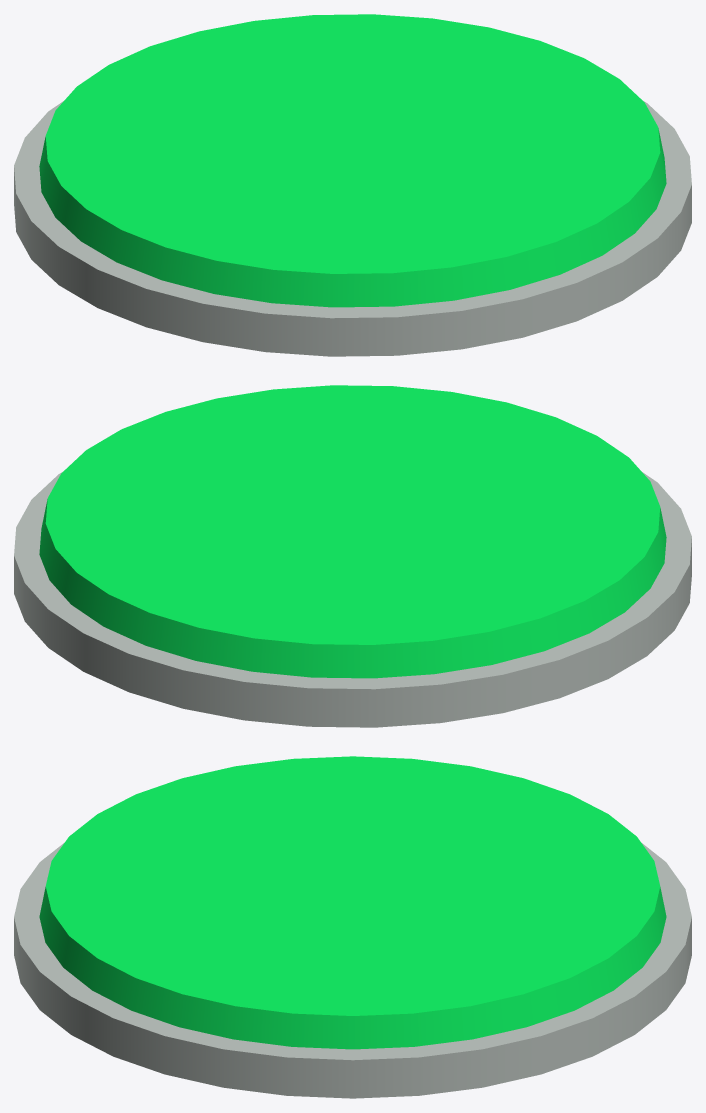
File: green-button_modified.gltf
3 renders of one model, top to bottom at view 1: azimuth 30°, elevation 25°; view 2: azimuth 150°, elevation 25°; view 3: azimuth 270°, elevation 25°, orthographic.
Parts seen in each view (by area): view 1: Cylinder (×2); view 2: Cylinder (×2); view 3: Cylinder (×2).
Boxes of the visible parts, x1,y1,x2,y2 form: Cylinder (×2): (14, 14, 691, 356); Cylinder (×2): (14, 385, 691, 727); Cylinder (×2): (14, 756, 691, 1098).
Bounding box in the file's own units: 2 × 0.225 × 2.
